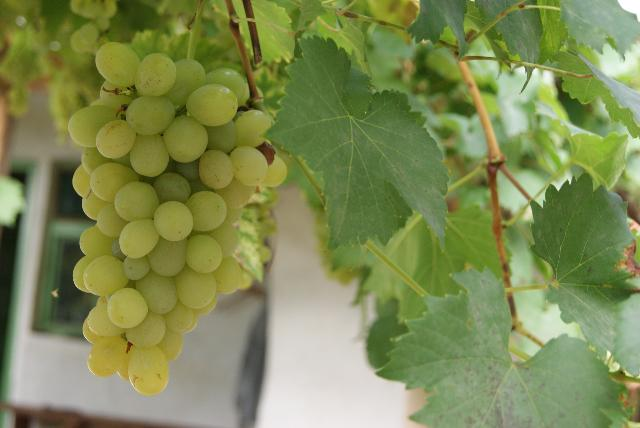grapes: (69, 42, 282, 395)
